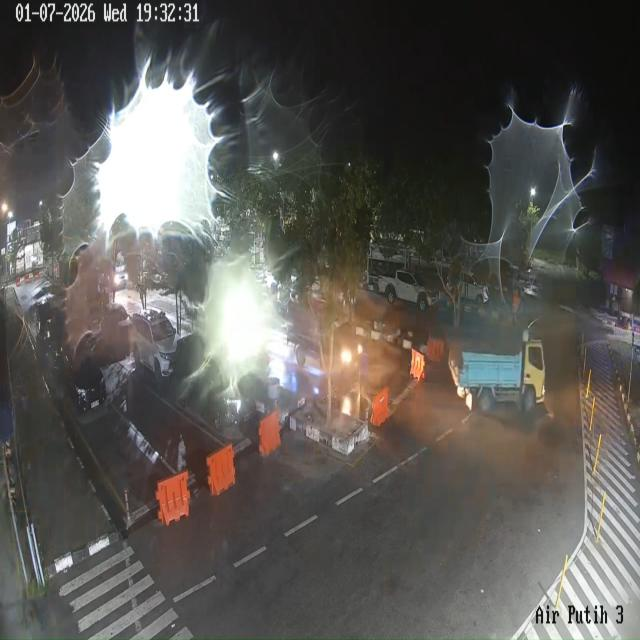Golongan IVA: (130, 309, 178, 383), (65, 349, 106, 414), (96, 303, 132, 361)
Golongan IVB: (378, 270, 439, 312)
Golongan VB: (449, 328, 545, 412)
